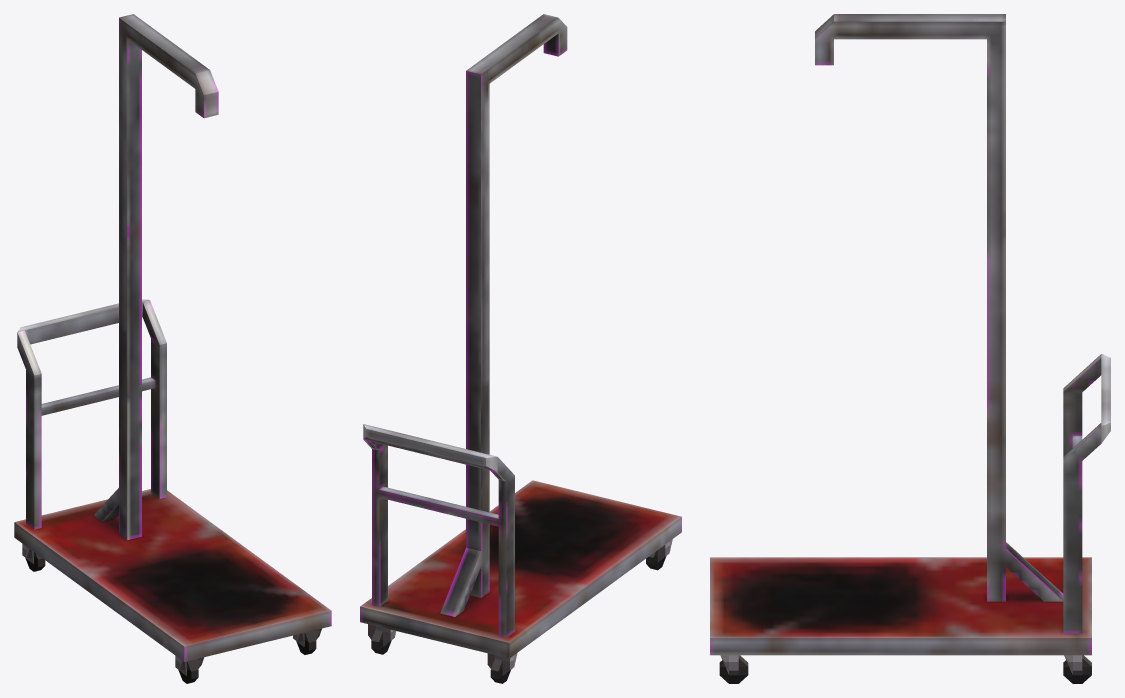
Rendered from clarity_cart.fbx.
The picture shows the model from 3 angles, left to right: view 1: azimuth 30°, elevation 25°; view 2: azimuth 150°, elevation 25°; view 3: azimuth 270°, elevation 25°; orthographic projection. The views are drawn at different scales.
Parts seen in each view (by area): view 1: clarity_base, clarity_caster.003; view 2: clarity_base, clarity_caster.001, clarity_caster; view 3: clarity_base, clarity_caster.002, clarity_caster.
Boxes of the visible parts, bbox=[...] form: clarity_base: bbox=[14, 14, 331, 661]; clarity_caster.003: bbox=[175, 655, 203, 683]; clarity_base: bbox=[360, 14, 681, 658]; clarity_caster.001: bbox=[487, 653, 517, 683]; clarity_caster: bbox=[368, 624, 396, 654]; clarity_base: bbox=[710, 14, 1110, 655]; clarity_caster.002: bbox=[719, 655, 748, 683]; clarity_caster: bbox=[1063, 655, 1091, 683].
Bounding box in the file's own units: 100 × 365 × 210.
